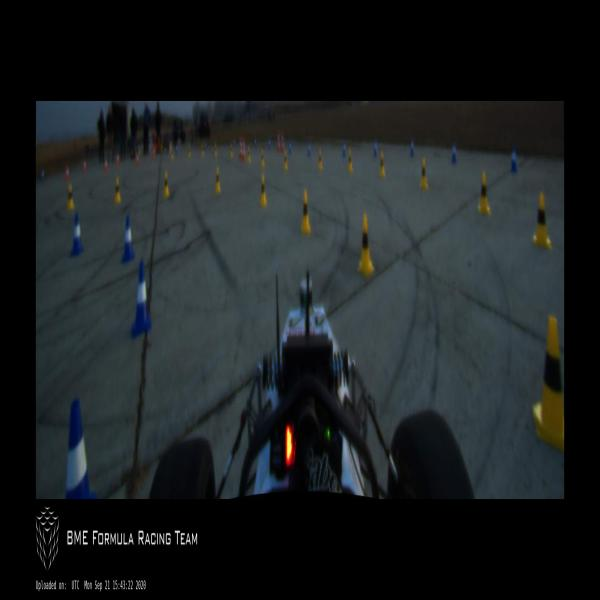blue_cone: (65, 398, 99, 498), (131, 262, 151, 338), (122, 216, 134, 262), (72, 213, 84, 254), (510, 144, 517, 173), (451, 141, 457, 165), (410, 137, 414, 157), (374, 138, 378, 156), (342, 140, 346, 157), (288, 140, 292, 154), (307, 142, 310, 158), (41, 169, 44, 182), (268, 138, 271, 150), (254, 136, 257, 147)
large_orange_cone: (241, 138, 245, 161), (276, 130, 280, 153), (280, 132, 284, 152), (239, 136, 242, 158)
orange_cone: (66, 164, 70, 181), (104, 158, 108, 173), (82, 158, 86, 172), (136, 152, 139, 167), (116, 154, 119, 164)
yellow_cone: (532, 316, 564, 451), (532, 193, 552, 251), (358, 215, 374, 277), (477, 173, 490, 216), (301, 192, 310, 234), (419, 156, 428, 190), (113, 176, 122, 206), (66, 183, 74, 212), (162, 172, 170, 200), (260, 176, 266, 208), (379, 152, 385, 178), (215, 168, 220, 194), (348, 148, 352, 174), (283, 150, 288, 170), (318, 150, 322, 170), (247, 146, 251, 163), (214, 143, 218, 156), (261, 150, 264, 167), (171, 144, 174, 159), (230, 143, 233, 158), (201, 143, 204, 158), (188, 147, 191, 159)
